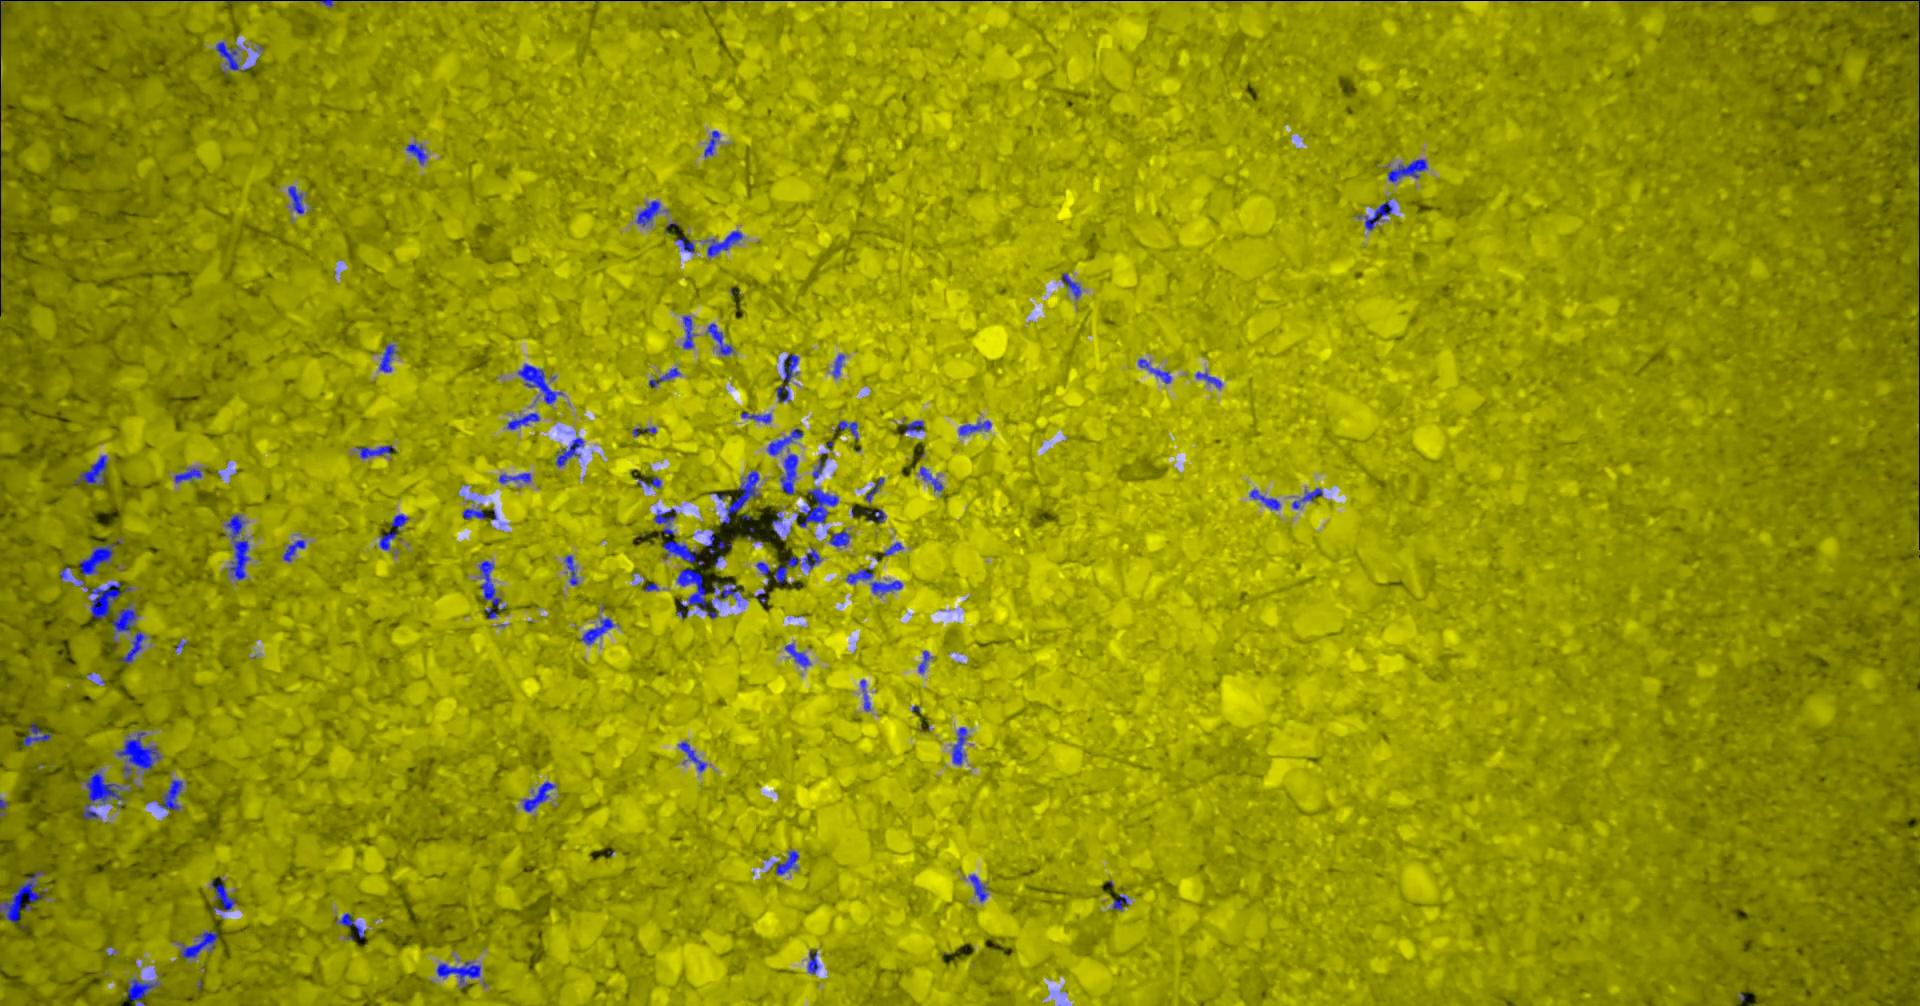ant: (0, 870, 44, 922), (756, 547, 820, 583), (116, 732, 160, 782), (676, 568, 717, 619), (720, 470, 759, 523), (81, 771, 122, 821), (517, 363, 563, 403), (797, 486, 838, 527), (223, 514, 249, 579), (86, 582, 131, 619), (844, 568, 902, 594), (477, 560, 504, 608), (79, 542, 116, 575), (215, 41, 249, 75), (436, 962, 480, 987), (775, 353, 797, 401), (662, 540, 703, 565), (179, 931, 217, 958), (72, 455, 107, 484), (705, 230, 742, 257), (522, 781, 555, 810), (767, 428, 803, 455), (1387, 159, 1427, 182), (579, 617, 613, 644), (705, 323, 733, 354), (1137, 358, 1171, 384), (554, 437, 583, 466), (1364, 199, 1392, 230), (210, 879, 236, 911), (126, 978, 157, 1005), (678, 741, 705, 771), (119, 631, 145, 663), (778, 453, 797, 494), (110, 603, 136, 633), (22, 721, 51, 746), (335, 913, 364, 937), (159, 779, 182, 809), (712, 580, 740, 605), (1291, 486, 1322, 508), (648, 367, 679, 387), (1250, 489, 1279, 509), (505, 412, 538, 429), (636, 199, 659, 225), (783, 644, 810, 666), (919, 466, 942, 490), (775, 850, 797, 874), (654, 508, 676, 533), (357, 445, 395, 459), (952, 727, 966, 763), (968, 874, 987, 901), (282, 539, 303, 561), (287, 185, 303, 213), (957, 420, 990, 434), (1062, 273, 1079, 298), (378, 344, 395, 371), (1195, 371, 1222, 387), (863, 478, 883, 500), (682, 315, 695, 348), (405, 144, 425, 164), (703, 130, 719, 156), (837, 420, 857, 439), (564, 555, 577, 586), (174, 467, 201, 481), (829, 530, 850, 546), (740, 412, 770, 423), (498, 473, 530, 483), (378, 531, 396, 549), (676, 235, 695, 251), (811, 457, 827, 478), (860, 680, 870, 710), (863, 508, 885, 522), (832, 354, 844, 377), (636, 476, 660, 488), (390, 514, 408, 530), (462, 508, 485, 520), (918, 650, 930, 673), (903, 420, 923, 433), (631, 426, 657, 436), (883, 542, 902, 555), (1112, 894, 1128, 909), (808, 950, 818, 973), (1848, 0, 1905, 1)
